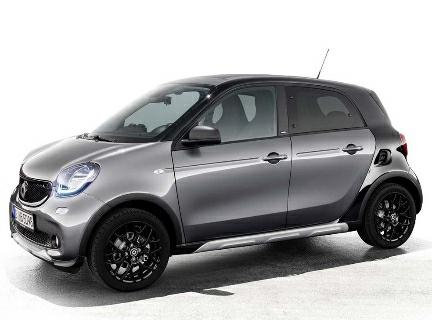smart-forfour: (23, 58, 420, 288)
